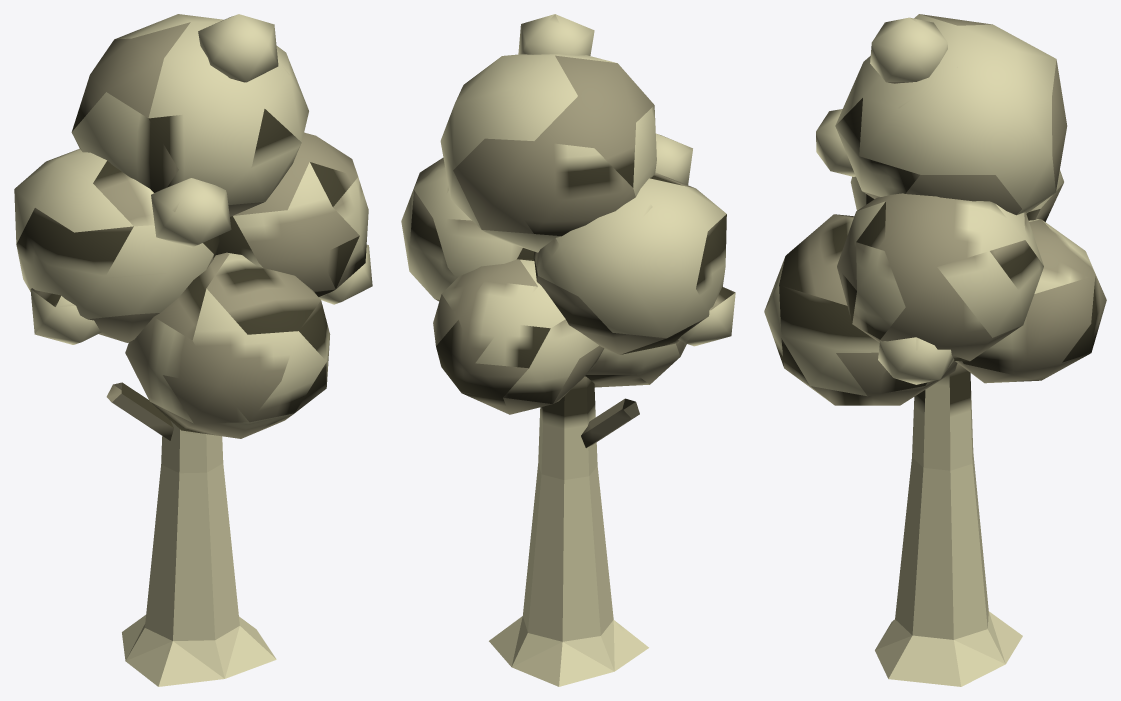
Rendered from tree_v2.fbx.
3 renders of one model, left to right at view 1: azimuth 30°, elevation 25°; view 2: azimuth 150°, elevation 25°; view 3: azimuth 270°, elevation 25°, orthographic. The views are drawn at different scales.
Visible parts, largest first — view 1: prop; view 2: prop; view 3: prop.
Part boxes in pixels (x1,y1,x2,y2): prop: (14, 14, 372, 686); prop: (401, 14, 735, 686); prop: (764, 14, 1106, 686).
Size of the model in its own units: 1.1 by 2.06 by 0.9883.
